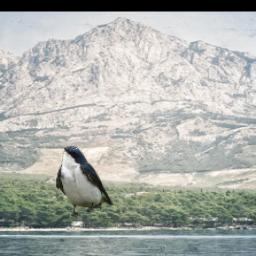Swallow: (56, 145, 115, 218)
